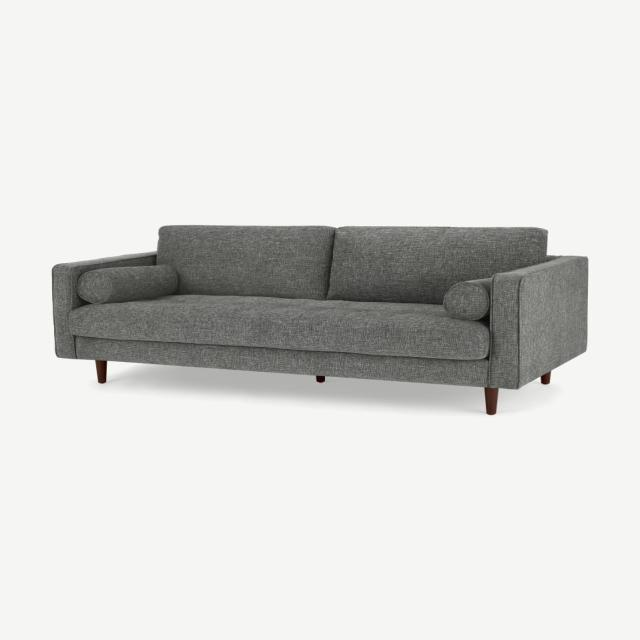Soffa: (47, 219, 598, 415)
